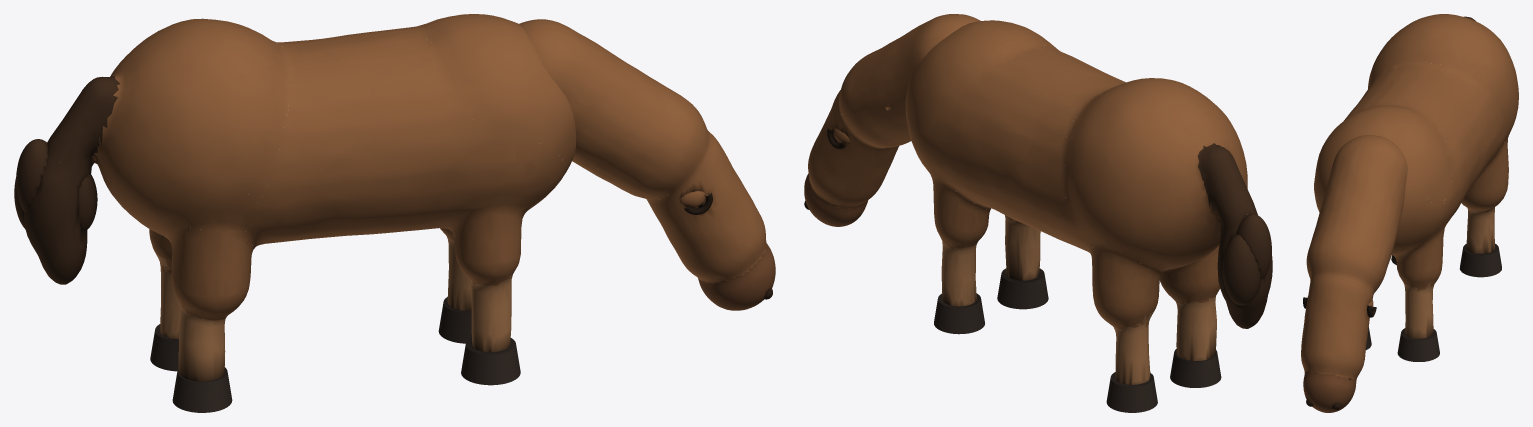
File: jag-ar-trott.glb
3 renders of one model, left to right at view 1: azimuth 30°, elevation 25°; view 2: azimuth 150°, elevation 25°; view 3: azimuth 270°, elevation 25°, orthographic. The views are drawn at different scales.
Visible parts, largest first — view 1: cavalo__r0, cabecaCavalo__r0, cavalo__r8, cavalo__r2, cavalo__r6, cavalo__r7, cavalo__r1, cavalo__r3; view 2: cavalo__r0, cabecaCavalo__r0, cavalo__r4, cavalo__r8, cavalo__r1, cavalo__r7, cavalo__r2, cavalo__r6; view 3: cavalo__r0, cabecaCavalo__r0, cavalo__r1, cavalo__r7.
Boxes of the visible parts, x1,y1,x2,y2 form: cavalo__r0: (23, 14, 575, 381); cabecaCavalo__r0: (519, 19, 775, 310); cavalo__r8: (461, 337, 520, 385); cavalo__r2: (172, 367, 232, 412); cavalo__r6: (16, 139, 47, 212); cavalo__r7: (438, 297, 471, 343); cavalo__r1: (150, 324, 178, 371); cavalo__r3: (78, 173, 97, 230); cavalo__r0: (905, 20, 1272, 384); cabecaCavalo__r0: (804, 14, 980, 226); cavalo__r4: (1222, 234, 1260, 305); cavalo__r8: (997, 268, 1048, 309); cavalo__r1: (1106, 372, 1157, 412); cavalo__r7: (934, 293, 984, 334); cavalo__r2: (1170, 349, 1221, 387); cavalo__r6: (1236, 214, 1271, 279); cavalo__r0: (1314, 14, 1518, 338); cabecaCavalo__r0: (1301, 135, 1407, 412); cavalo__r1: (1459, 243, 1501, 277); cavalo__r7: (1397, 328, 1439, 361).
Size of the model in its own units: 2.36 by 1.22 by 0.9743.
